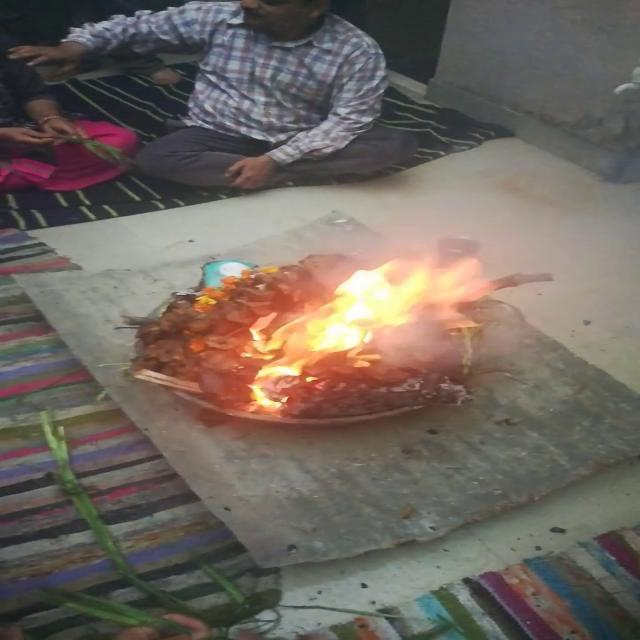Fire: (246, 244, 362, 408), (362, 246, 510, 312)
Smoke: (364, 311, 534, 379)
